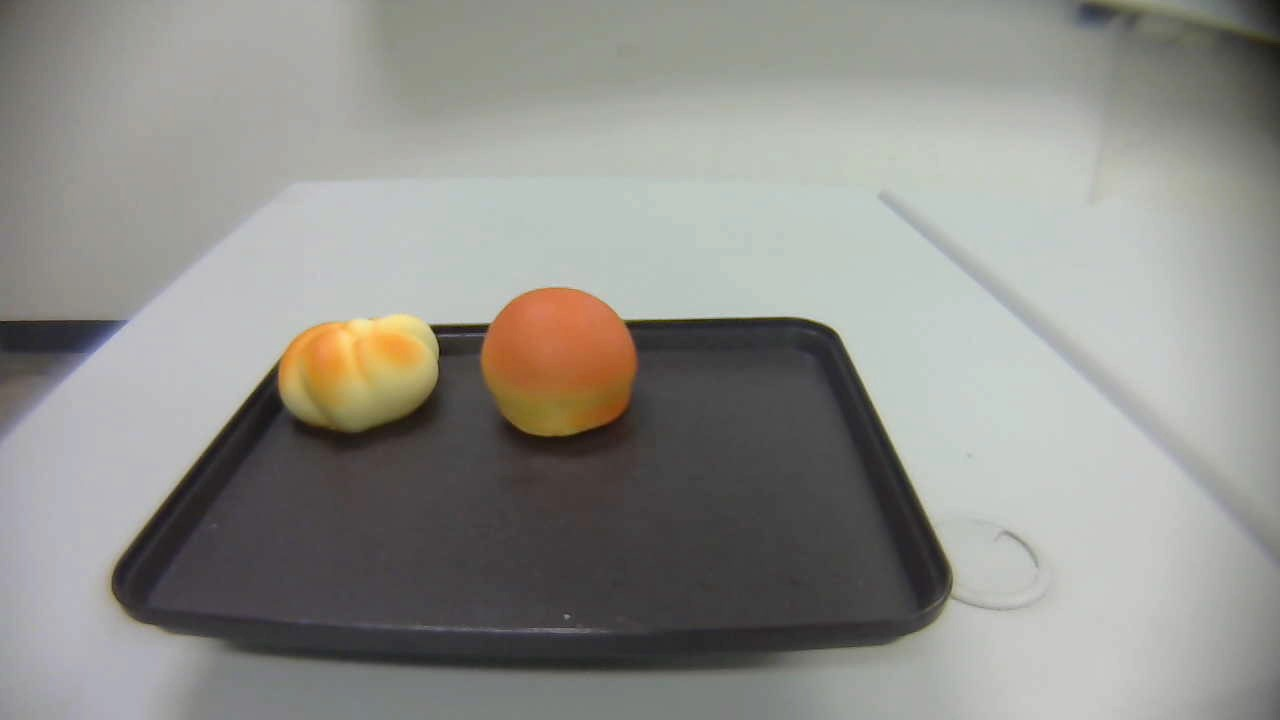bun: (481, 287, 637, 436)
twist bread: (277, 311, 439, 433)
